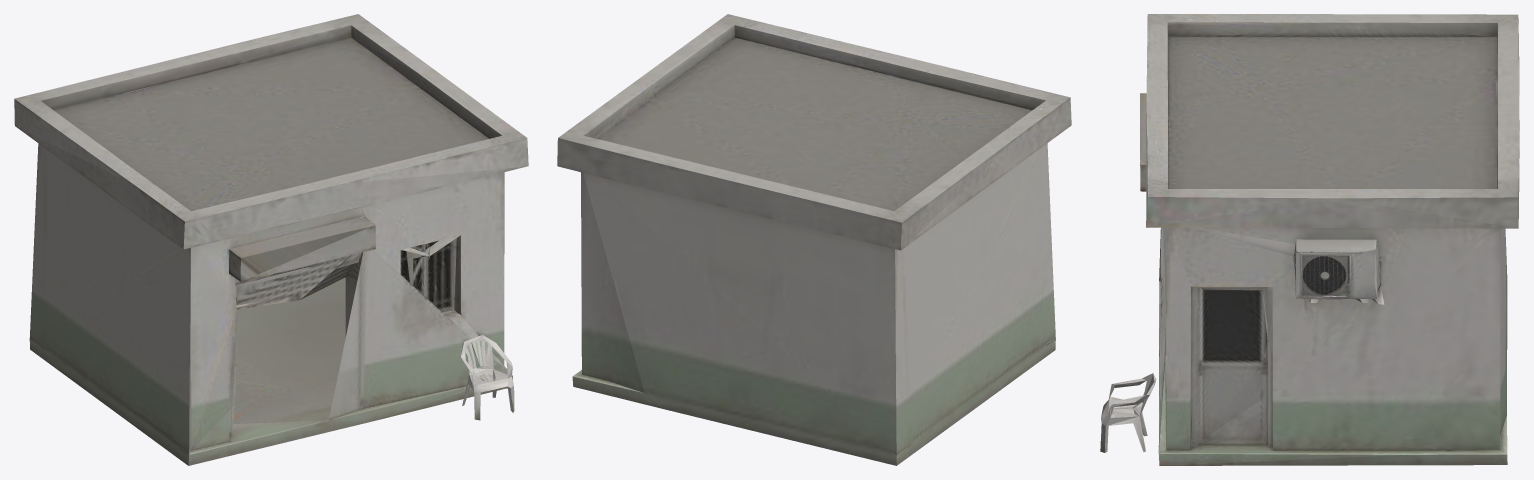
Rendered from fuelshop.glb.
The picture shows the model from 3 angles, left to right: view 1: azimuth 30°, elevation 25°; view 2: azimuth 150°, elevation 25°; view 3: azimuth 270°, elevation 25°; orthographic projection. The views are drawn at different scales.
Bounding box in the file's own units: 1.9 × 1.28 × 1.78.
Materials: 1 (1 with a texture image).
